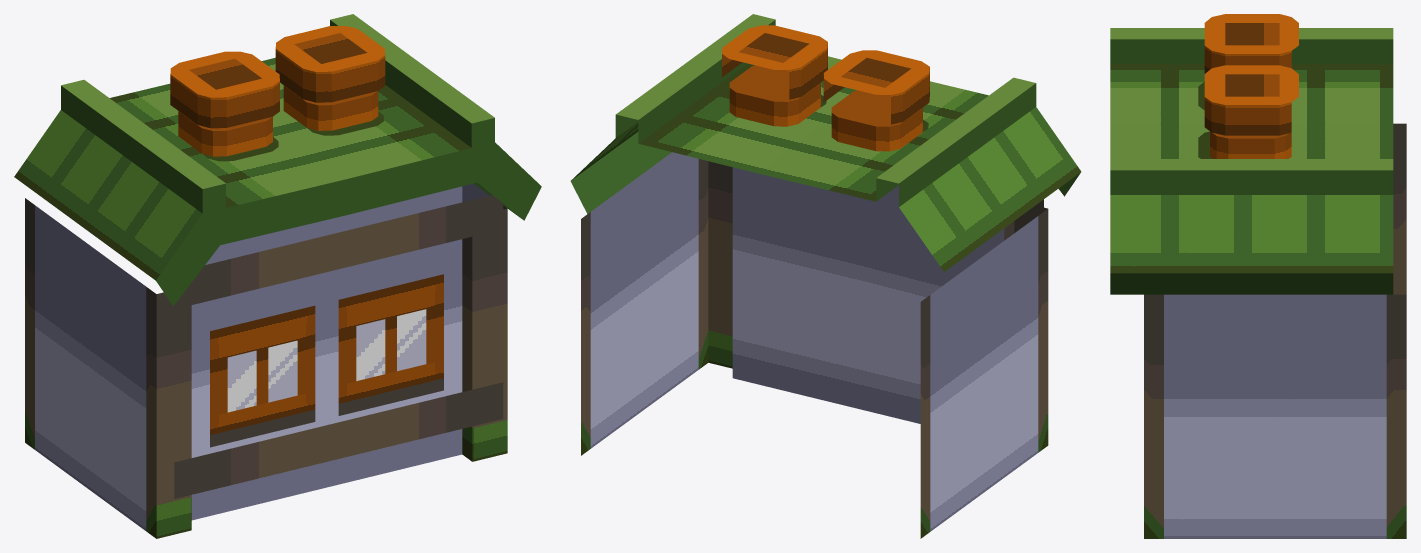
The model's file is house2.glb.
The picture shows the model from 3 angles, left to right: view 1: azimuth 30°, elevation 25°; view 2: azimuth 150°, elevation 25°; view 3: azimuth 270°, elevation 25°; orthographic projection. The views are drawn at different scales.
Parts seen in each view (by area): view 1: house2; view 2: house2; view 3: house2.
Boxes of the visible parts, box(x1,y1,x2,y2) form: house2: box(14, 14, 541, 538); house2: box(570, 14, 1081, 538); house2: box(1110, 14, 1406, 538).
Bounding box in the file's own units: 4.12 × 4.03 × 2.75.
Materials: 2 (2 with a texture image).
